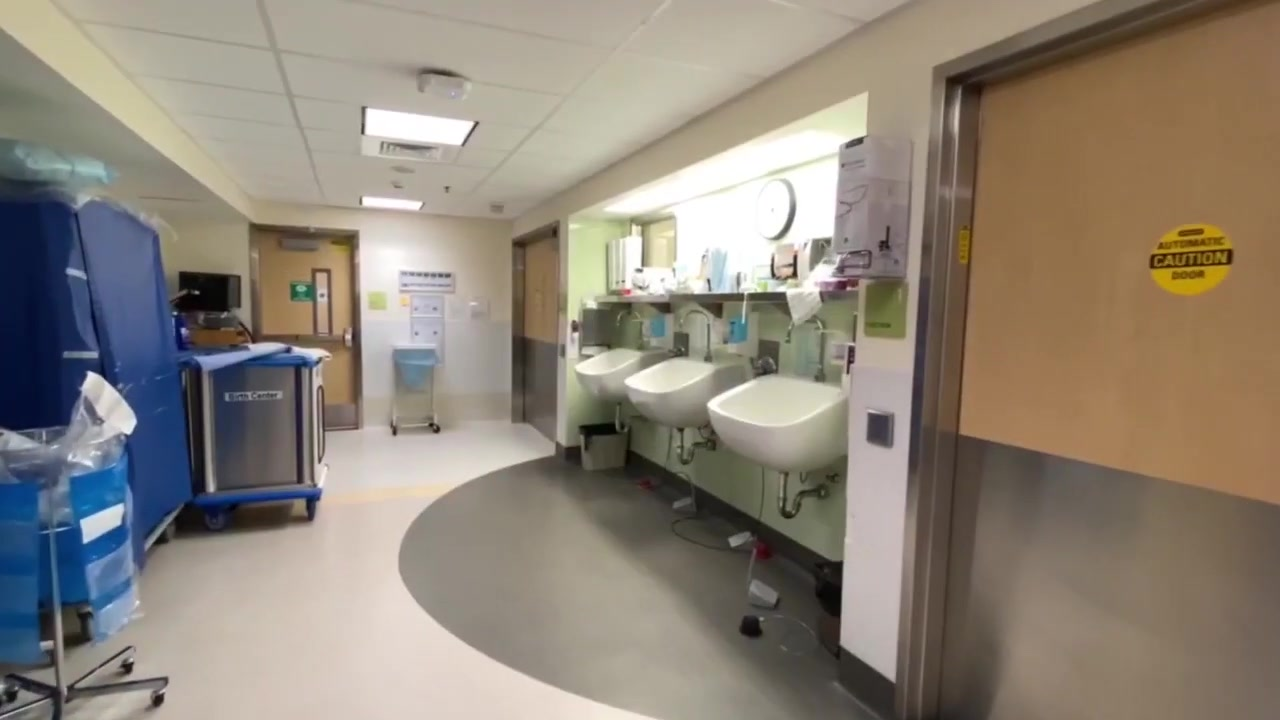computer: (177, 268, 241, 317)
dispenser: (834, 134, 913, 283)
faucet: (786, 314, 827, 385), (680, 304, 715, 365), (615, 308, 644, 348)
press_to_open: (861, 407, 896, 447)
push_latch: (260, 331, 355, 350)
sink: (706, 372, 846, 475), (630, 350, 741, 428), (573, 347, 668, 401)
waste_bin: (1, 427, 138, 664), (392, 344, 444, 433), (813, 557, 844, 657), (577, 424, 630, 470)
